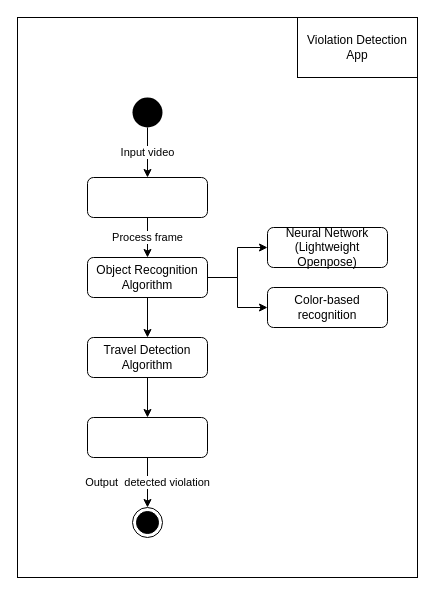
This 435x595 diagram has some shape labels left out. The box of each missing label's shape, as (x1, y1, x2, y2) in pixels:
Double Dribble Detection Algorithm: (86, 416, 208, 458)
Video processor: (86, 176, 208, 218)
